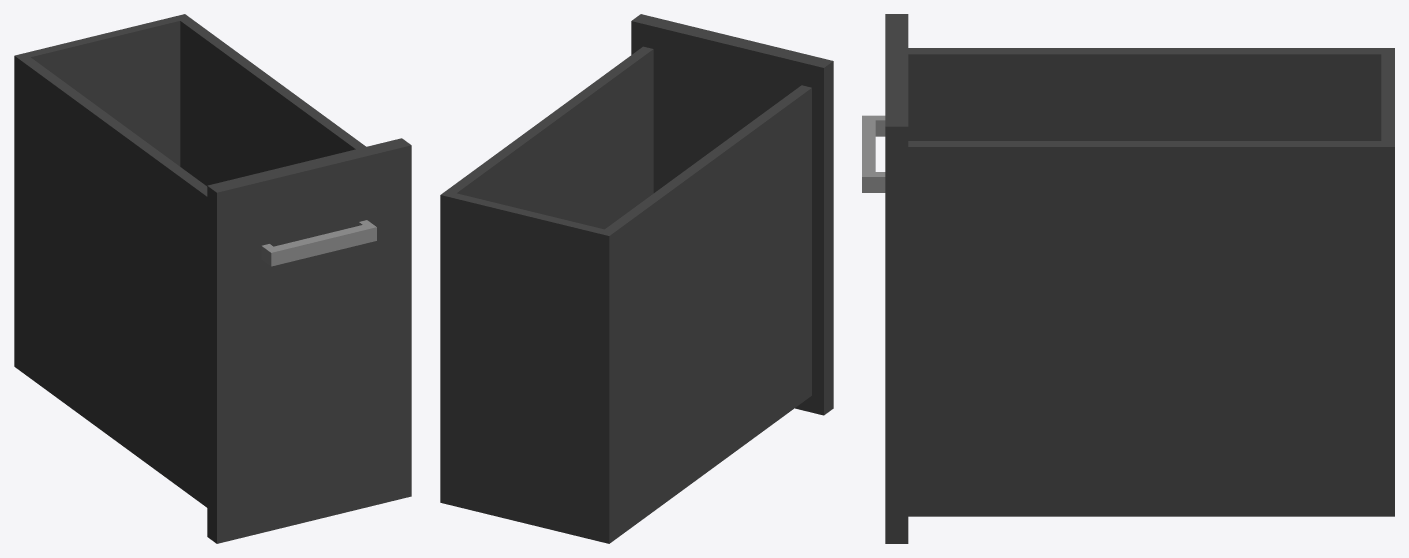
File: Door2_C3_08.fbx
3 views of the same model, side by side, from view 1: azimuth 30°, elevation 25°; view 2: azimuth 150°, elevation 25°; view 3: azimuth 270°, elevation 25° (orthographic). The views are drawn at different scales.
Visible parts, largest first — view 1: Door2_C3_08; view 2: Door2_C3_08; view 3: Door2_C3_08.
Boxes of the visible parts, left/top/right/bottom form: Door2_C3_08: left=14, top=14, right=411, bottom=543; Door2_C3_08: left=440, top=14, right=833, bottom=543; Door2_C3_08: left=862, top=14, right=1394, bottom=543.
Bounding box in the file's own units: 29 × 50 × 57.89.
